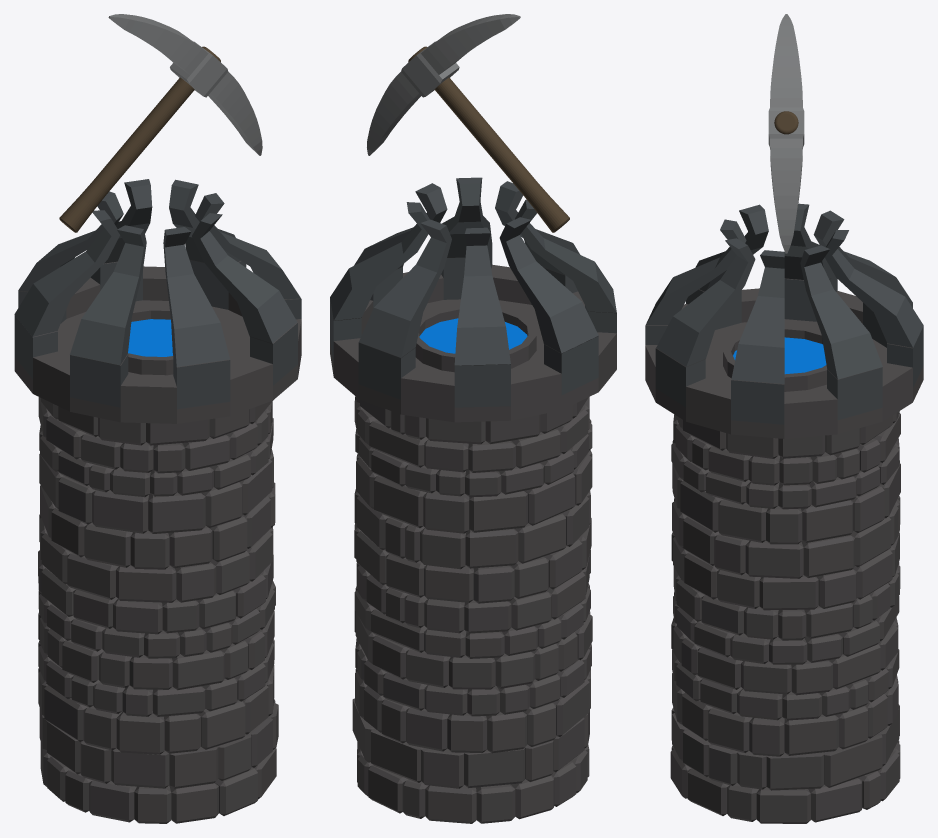
File: Mining TowerFixed.fbx
3 views of the same model, side by side, from view 1: azimuth 30°, elevation 25°; view 2: azimuth 150°, elevation 25°; view 3: azimuth 270°, elevation 25° (orthographic). The views are drawn at different scales.
Visible parts, largest first — view 1: Wall, Cone.001, Cone.002, Cube, Cylinder, Cone.003; view 2: Wall, Cone.001, Cone.002, Cube, Cylinder, Cone.003; view 3: Wall, Cone.001, Cone.002, Cube, Cone.003.
Boxes of the visible parts, x1=… form: Wall: x1=38, y1=397, x2=278, y2=823; Cone.001: x1=14, y1=179, x2=301, y2=409; Cone.002: x1=14, y1=260, x2=301, y2=423; Cube: x1=108, y1=14, x2=262, y2=155; Cylinder: x1=59, y1=46, x2=220, y2=232; Cone.003: x1=128, y1=319, x2=172, y2=356; Wall: x1=352, y1=396, x2=592, y2=823; Cone.001: x1=330, y1=177, x2=616, y2=407; Cone.002: x1=330, y1=257, x2=616, y2=422; Cube: x1=367, y1=14, x2=520, y2=155; Cylinder: x1=408, y1=46, x2=569, y2=232; Cone.003: x1=419, y1=318, x2=527, y2=353; Wall: x1=670, y1=411, x2=900, y2=823; Cone.001: x1=645, y1=203, x2=923, y2=424; Cone.002: x1=645, y1=278, x2=923, y2=438; Cube: x1=768, y1=14, x2=804, y2=253; Cone.003: x1=733, y1=337, x2=826, y2=374.
Size of the model in its own units: 892 by 2621 by 893.
